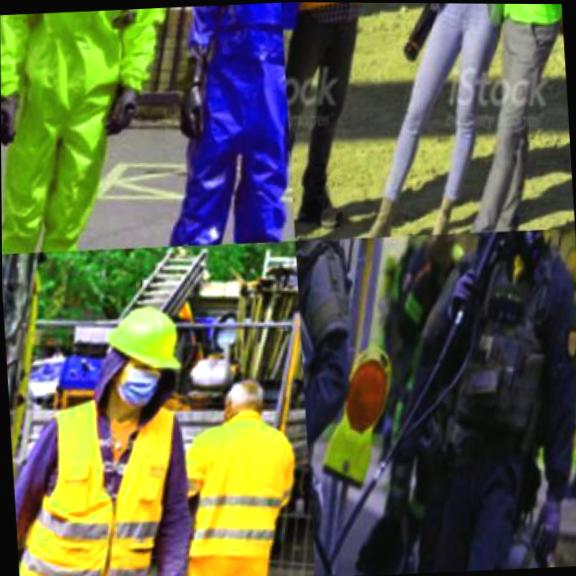safety_vest: (0, 5, 199, 253), (132, 1, 293, 246), (17, 394, 203, 576), (444, 245, 576, 456), (170, 412, 313, 576), (295, 252, 382, 467), (503, 4, 563, 49), (291, 2, 409, 24)
